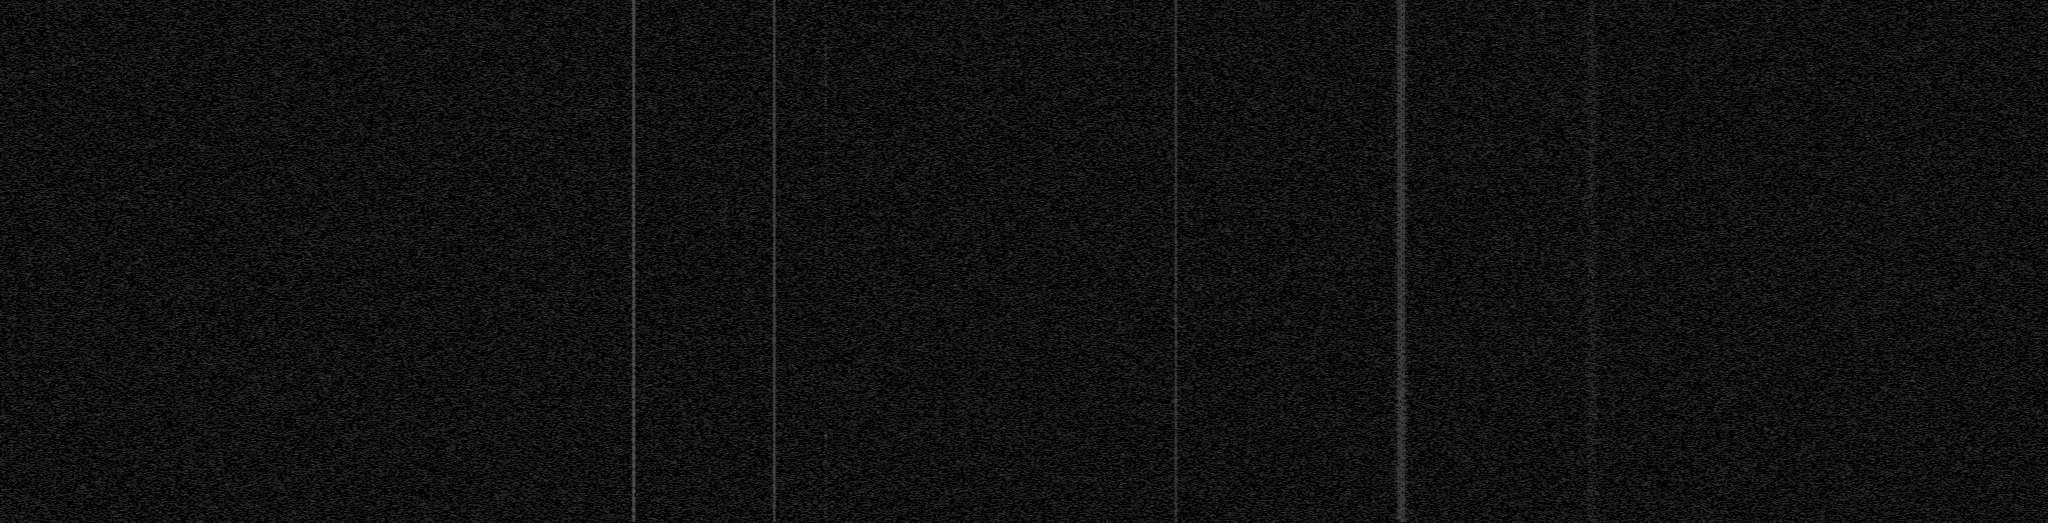wv_am: (631, 0, 637, 522), (1173, 0, 1178, 522)
wv_cw: (772, 0, 777, 522)
wv_lsb: (823, 417, 829, 450), (823, 3, 828, 42), (824, 163, 828, 214), (824, 64, 828, 114), (824, 115, 828, 146), (824, 214, 828, 241), (824, 499, 828, 522), (824, 265, 828, 288), (824, 242, 828, 264), (824, 394, 828, 416), (824, 146, 828, 163), (824, 46, 828, 63), (824, 455, 828, 472), (824, 322, 828, 337), (824, 346, 828, 361), (824, 295, 828, 310), (824, 473, 828, 486), (824, 380, 828, 392), (824, 488, 828, 498), (824, 374, 828, 380), (824, 362, 828, 366), (824, 367, 827, 373), (824, 451, 828, 454), (824, 339, 827, 341)
wv_wbfm: (1579, 0, 1604, 522), (1391, 0, 1411, 522)
